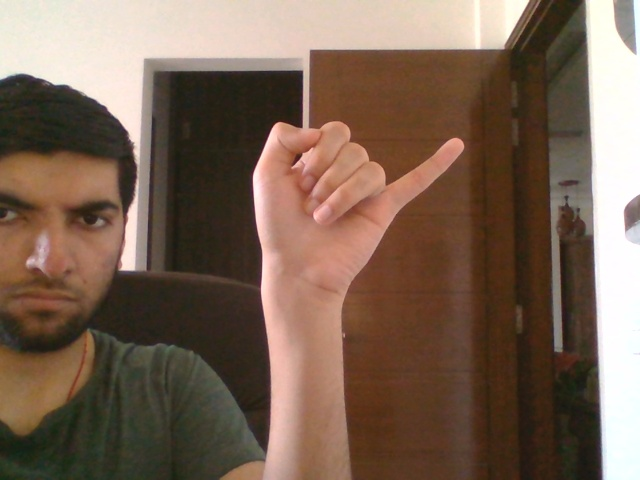LetterJ: (250, 120, 465, 293)
